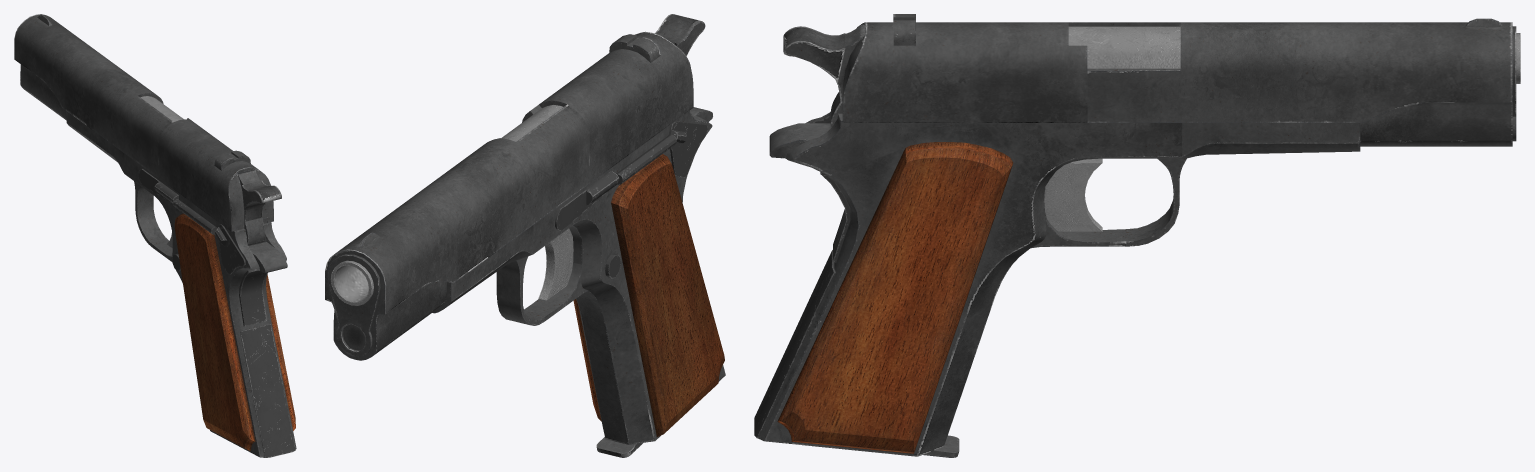
Rendered from Colt_1911.fbx.
3 views of the same model, side by side, from view 1: azimuth 30°, elevation 25°; view 2: azimuth 150°, elevation 25°; view 3: azimuth 270°, elevation 25° (orthographic). The views are drawn at different scales.
Parts seen in each view (by area): view 1: Plane.001, Plane, Plane.005; view 2: Plane.001, Plane, Plane.003, Plane.005, Plane.002; view 3: Plane.001, Plane, Plane.003, Plane.005.
Part boxes in pixels (x1=…): Plane.001: x1=66, y1=96, x2=296, y2=457; Plane: x1=14, y1=14, x2=273, y2=231; Plane.005: x1=237, y1=170, x2=281, y2=245; Plane.001: x1=330, y1=105, x2=725, y2=444; Plane: x1=325, y1=31, x2=693, y2=360; Plane.003: x1=538, y1=228, x2=573, y2=300; Plane.005: x1=655, y1=14, x2=705, y2=55; Plane.002: x1=596, y1=437, x2=642, y2=457; Plane.001: x1=754, y1=26, x2=1520, y2=456; Plane: x1=842, y1=14, x2=1516, y2=146; Plane.003: x1=1044, y1=158, x2=1102, y2=231; Plane.005: x1=783, y1=25, x2=864, y2=127.
Bounding box in the file's own units: 24.39 × 123 × 199.
Materials: 1 (1 with a texture image).
